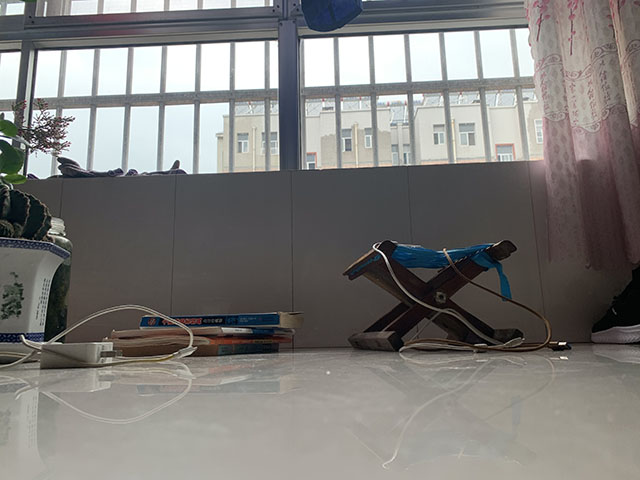book: (99, 310, 305, 357)
curtain: (524, 2, 640, 275)
stool: (341, 238, 527, 353)
wire: (372, 242, 573, 355), (1, 303, 197, 368)
